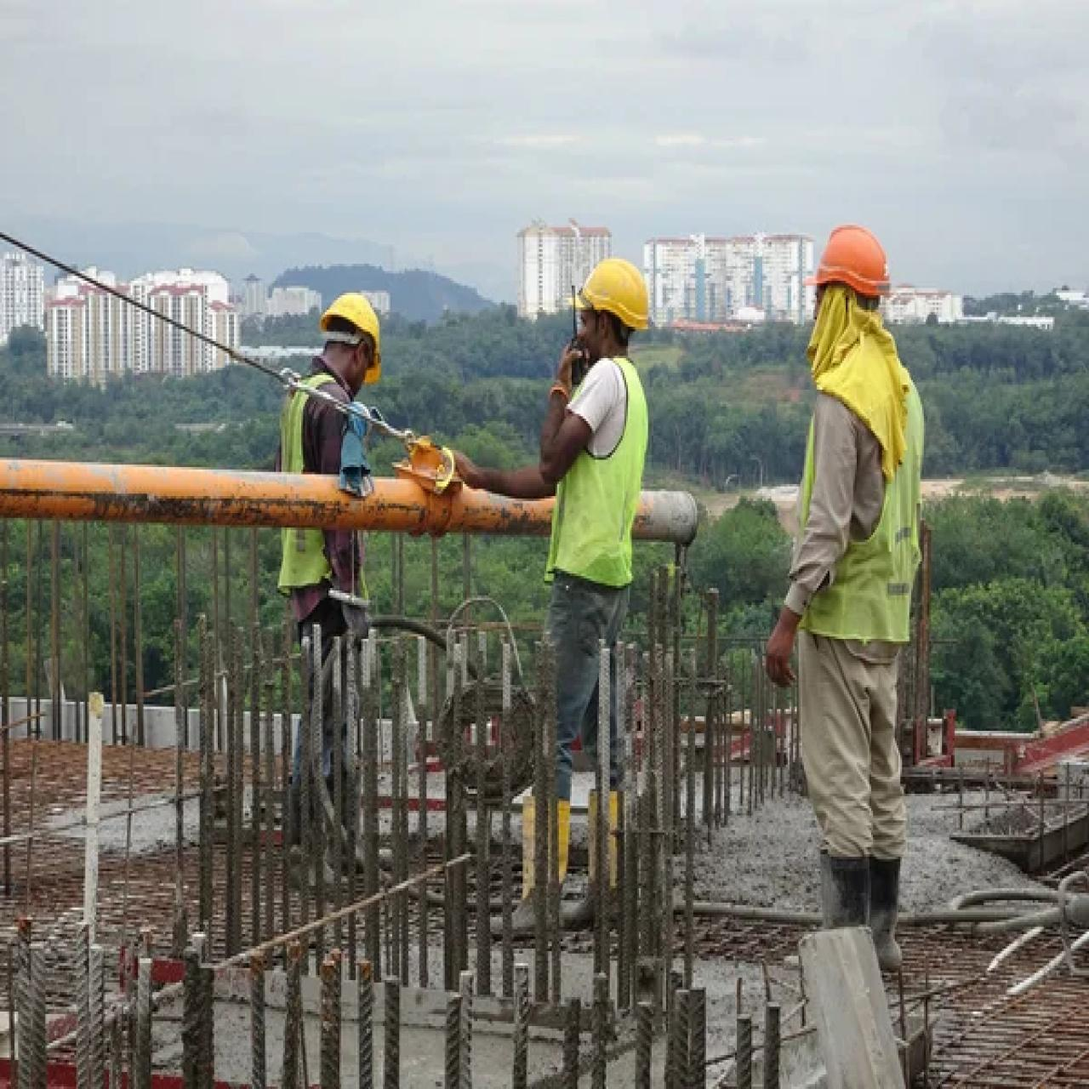Person: (744, 204, 942, 968), (476, 231, 665, 903), (265, 278, 392, 855)
Safety_Vest: (790, 355, 925, 647), (532, 357, 651, 590), (278, 375, 361, 611)
